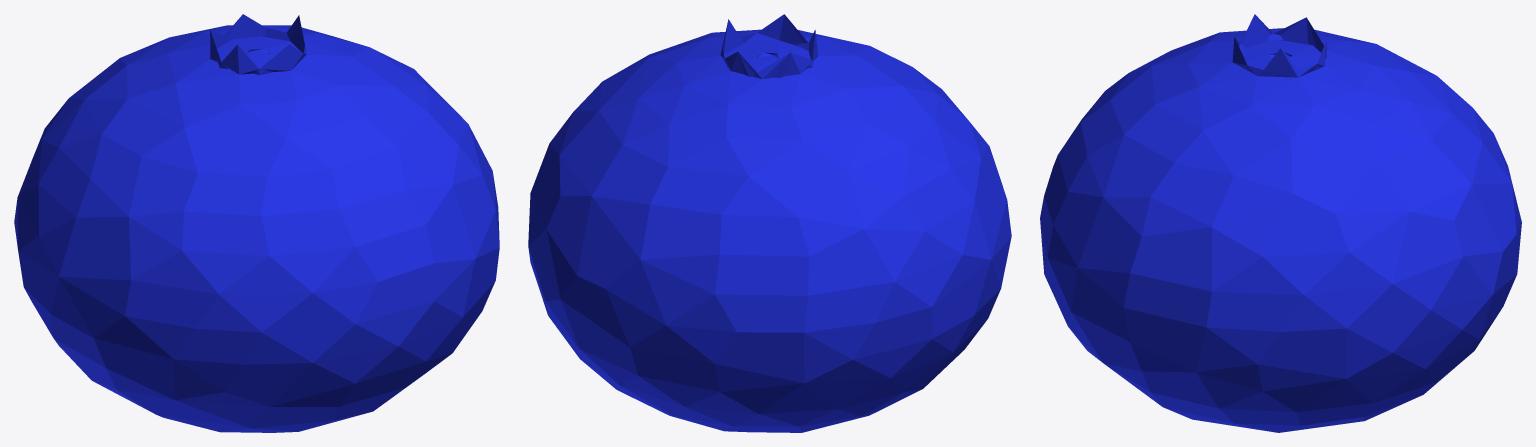
Rendered from blueberry.fbx.
The picture shows the model from 3 angles, left to right: view 1: azimuth 30°, elevation 25°; view 2: azimuth 150°, elevation 25°; view 3: azimuth 270°, elevation 25°; orthographic projection.
Parts seen in each view (by area): view 1: Sphere; view 2: Sphere; view 3: Sphere.
Boxes of the visible parts, <box> form: Sphere: <box>14,14,499,432</box>; Sphere: <box>528,14,1011,432</box>; Sphere: <box>1040,14,1521,432</box>.
Bounding box in the file's own units: 2 × 1.72 × 2.
